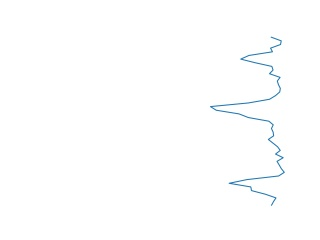underwaterNaturalLevee: (206, 36, 289, 206)
